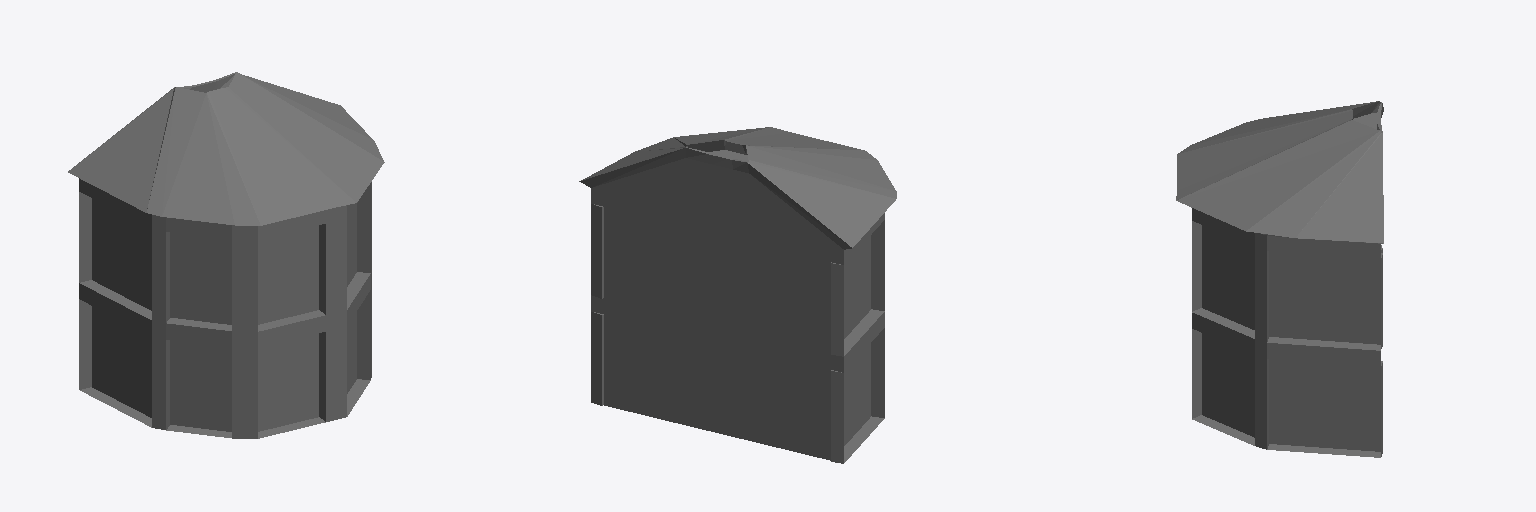
Rendered from BayWindowAnchor.obj.
3 views of the same model, side by side, from view 1: azimuth 30°, elevation 25°; view 2: azimuth 150°, elevation 25°; view 3: azimuth 270°, elevation 25° (orthographic).
Visible parts, largest first — view 1: pCube1; view 2: pCube1; view 3: pCube1.
Part boxes in pixels (bbox=[...]): pCube1: bbox=[68, 72, 384, 438]; pCube1: bbox=[579, 127, 896, 463]; pCube1: bbox=[1176, 101, 1383, 457].
Size of the model in its own units: 1.34 by 1.31 by 0.8805.